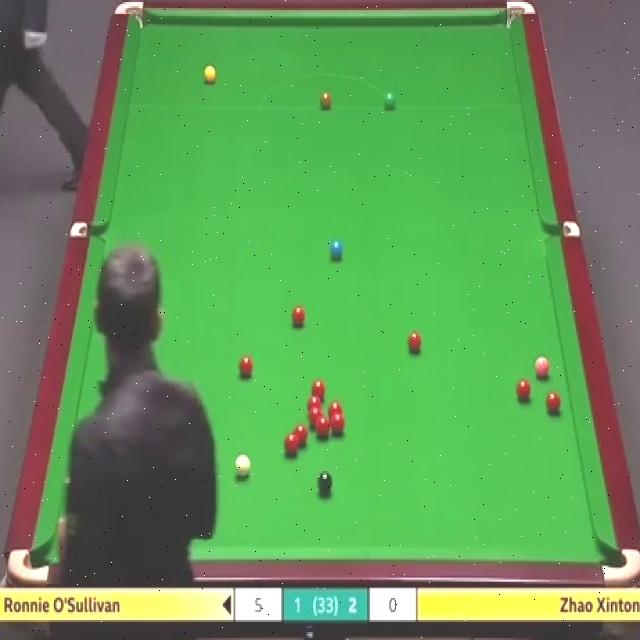black-ball: (317, 469, 333, 499)
blue-ball: (329, 238, 344, 260)
brown-ball: (319, 90, 332, 111)
green-ball: (384, 92, 396, 110)
pink-ball: (535, 354, 550, 380)
red-ball: (238, 354, 255, 381), (517, 378, 534, 402), (283, 433, 299, 458), (294, 426, 310, 450), (330, 413, 346, 437), (546, 392, 562, 414), (408, 330, 422, 355), (291, 306, 306, 328), (316, 416, 330, 438), (308, 408, 322, 427), (310, 380, 326, 396), (307, 395, 322, 411), (329, 404, 342, 416)
white-ball: (234, 451, 252, 476)
yellow-ball: (204, 66, 217, 86)
